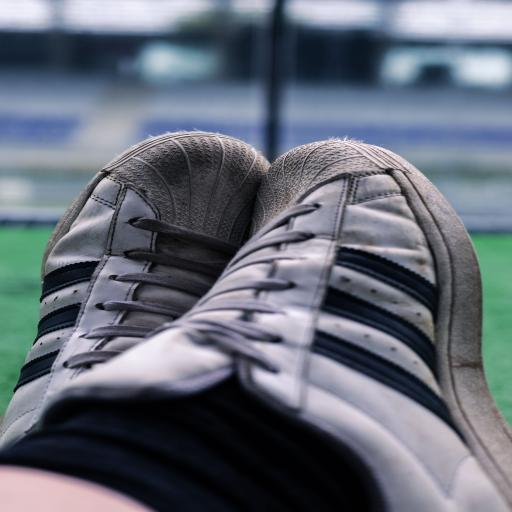shoe: (44, 141, 511, 511), (0, 132, 269, 447)
